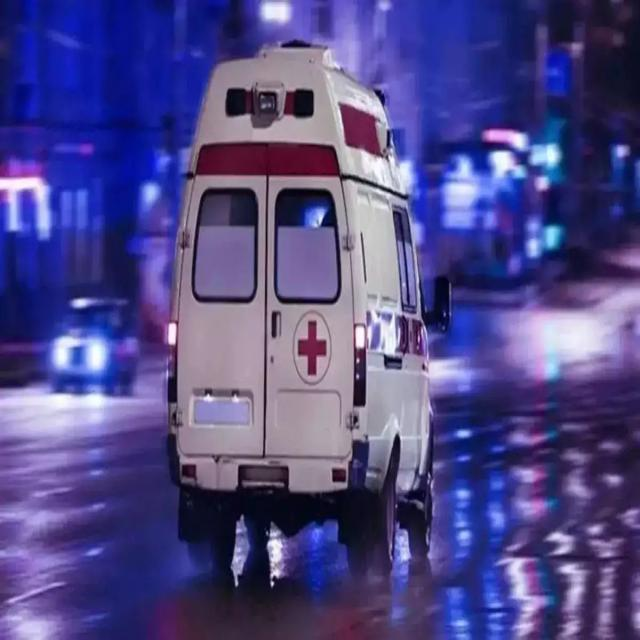ambulance: (144, 29, 477, 581)
